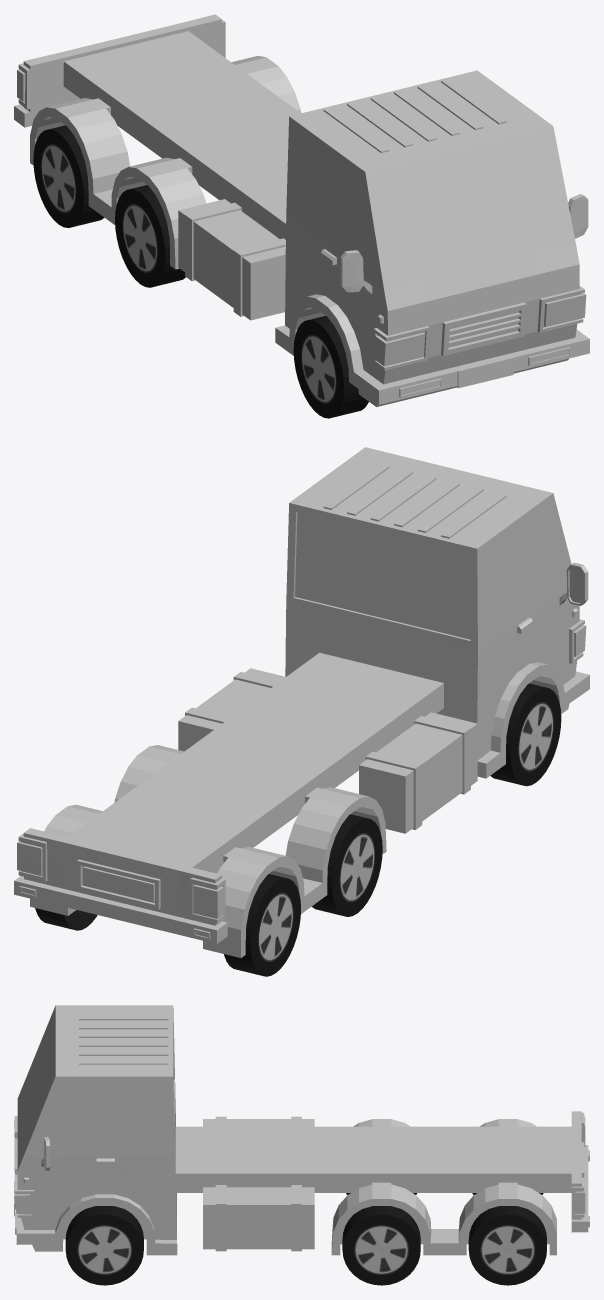
Rendered from EmptyTruck.fbx.
3 views of the same model, one above another, from view 1: azimuth 30°, elevation 25°; view 2: azimuth 150°, elevation 25°; view 3: azimuth 270°, elevation 25° (orthographic). The views are drawn at different scales.
Parts seen in each view (by area): view 1: EmptyTruck.Mesh, FrontWheel.Mesh.R, RearWheel.Mesh.R, PassiveWheel.Mesh.R; view 2: EmptyTruck.Mesh, PassiveWheel.Mesh.R, RearWheel.Mesh.R, FrontWheel.Mesh.R, PassiveWheel.Mesh.L; view 3: EmptyTruck.Mesh, FrontWheel.Mesh.L, RearWheel.Mesh.L, PassiveWheel.Mesh.L.
Boxes of the visible parts, bbox=[...] form: EmptyTruck.Mesh: bbox=[14, 14, 589, 406]; FrontWheel.Mesh.R: bbox=[293, 316, 368, 418]; RearWheel.Mesh.R: bbox=[115, 185, 185, 287]; PassiveWheel.Mesh.R: bbox=[33, 125, 104, 227]; EmptyTruck.Mesh: bbox=[14, 447, 589, 957]; PassiveWheel.Mesh.R: bbox=[224, 874, 300, 976]; RearWheel.Mesh.R: bbox=[311, 814, 382, 916]; FrontWheel.Mesh.R: bbox=[490, 683, 561, 786]; PassiveWheel.Mesh.L: bbox=[35, 908, 97, 930]; EmptyTruck.Mesh: bbox=[14, 1005, 589, 1255]; FrontWheel.Mesh.L: bbox=[65, 1206, 143, 1285]; RearWheel.Mesh.L: bbox=[342, 1206, 420, 1285]; PassiveWheel.Mesh.L: bbox=[468, 1206, 546, 1285].
Size of the model in its own units: 1.03 by 1.05 by 2.69.
